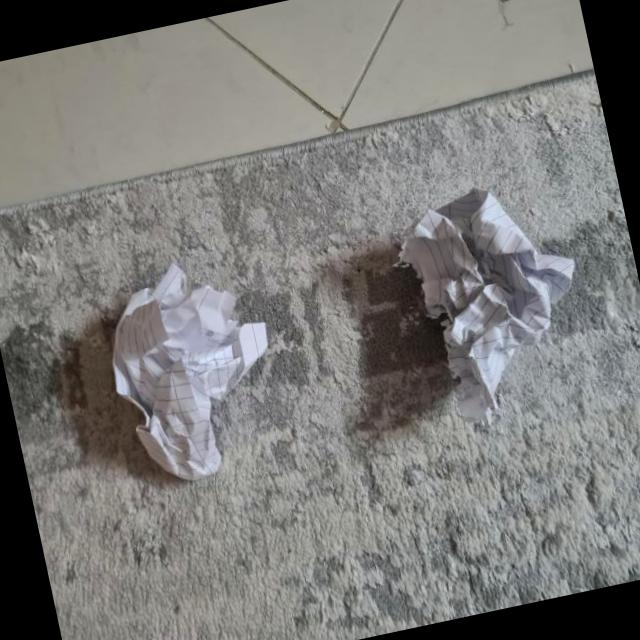cardboard paper: (397, 188, 571, 417), (110, 263, 264, 477)
